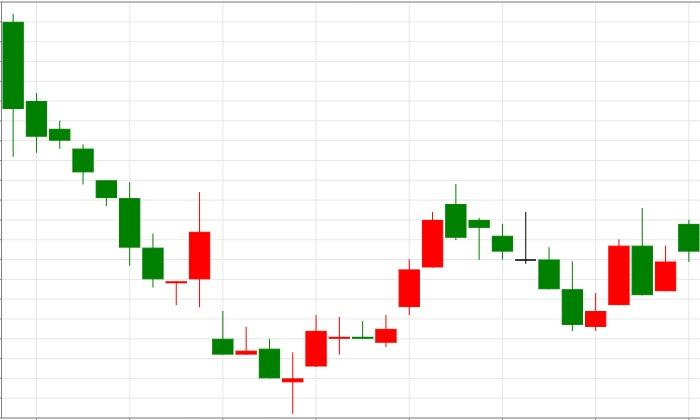morning_star_rise: (2, 13, 211, 307)
